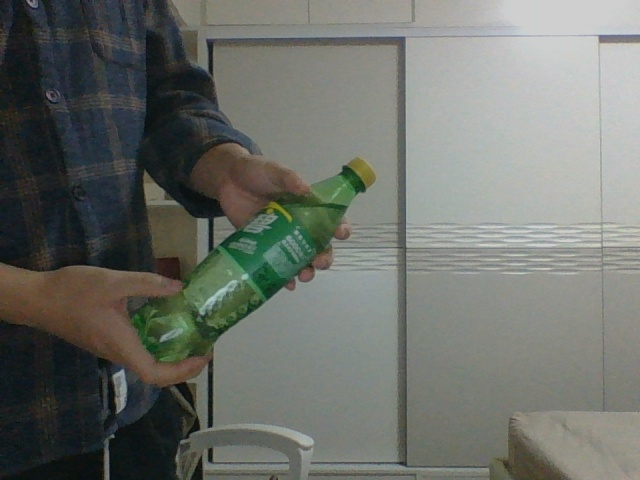Sprite: (135, 158, 376, 360)
